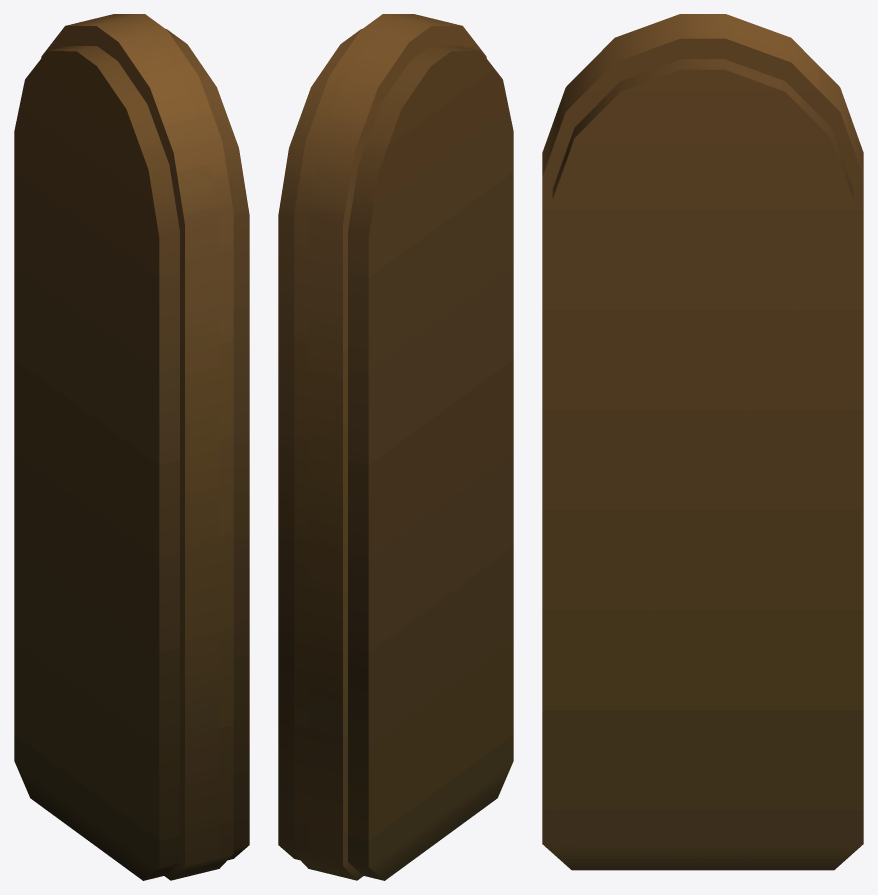
The model's file is bwg_gate__bwg_gate_frame_L.glb.
The picture shows the model from 3 angles, left to right: view 1: azimuth 30°, elevation 25°; view 2: azimuth 150°, elevation 25°; view 3: azimuth 270°, elevation 25°; orthographic projection. The views are drawn at different scales.
Visible parts, largest first — view 1: polygon0; view 2: polygon0; view 3: polygon0.
Part boxes in pixels (x1=…): polygon0: x1=14, y1=14, x2=249, y2=880; polygon0: x1=278, y1=14, x2=513, y2=880; polygon0: x1=542, y1=14, x2=863, y2=870.
Bounding box in the file's own units: 0.2754 × 2.33 × 0.8162.
1 material, 1 textured.
